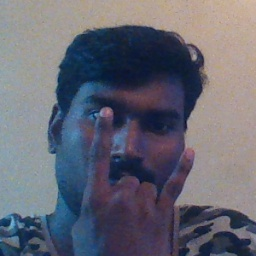V: (68, 106, 197, 256)
